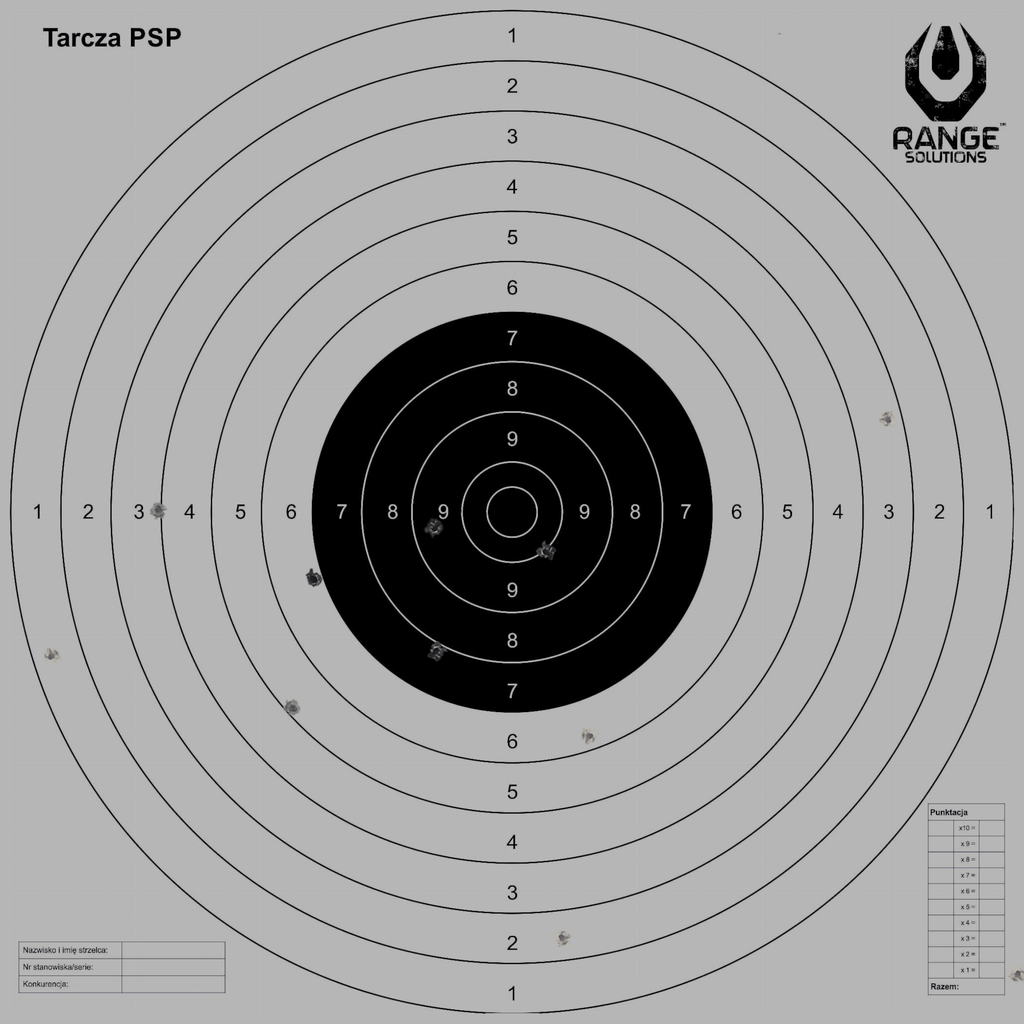0 punktow: (1009, 965, 1024, 983)
1 punkt: (42, 647, 60, 665)
10 punktow: (537, 543, 556, 561)
2 punkty: (553, 928, 571, 947)
3 punkty: (879, 411, 897, 429)
4 punkty: (149, 501, 167, 519)
5 punktow: (283, 699, 302, 717)
6 punktow: (580, 727, 599, 745)
7 punktow: (305, 570, 323, 588)
8 punktow: (427, 642, 445, 661)
9 punktow: (425, 519, 444, 538)
